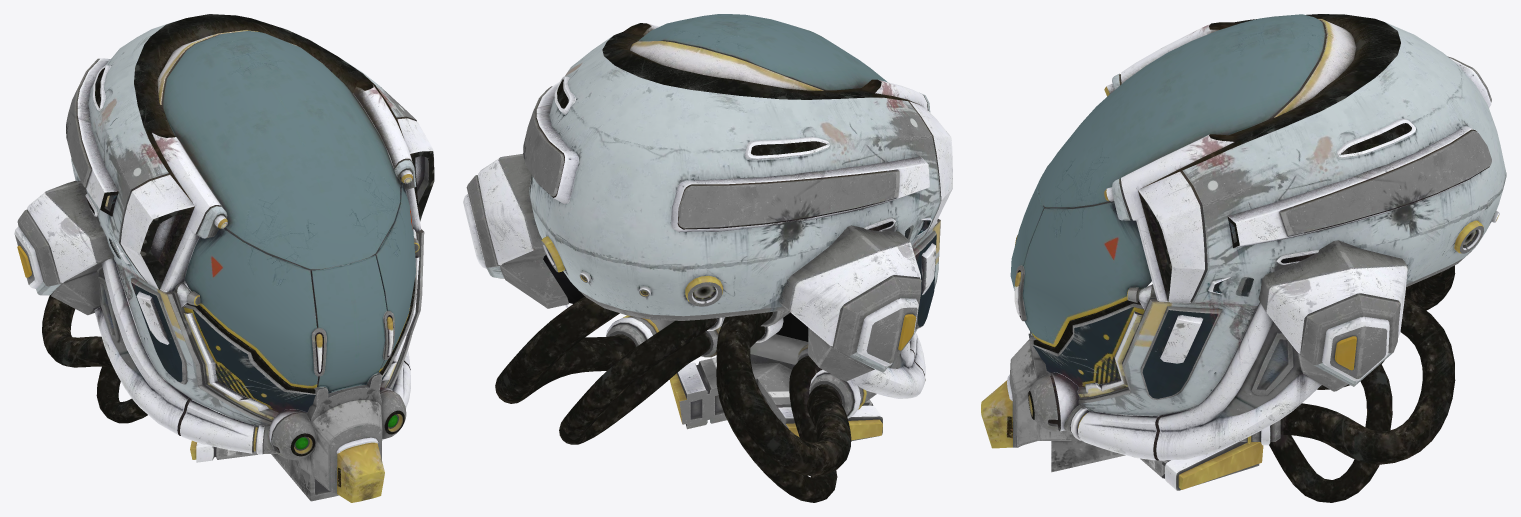
The model's file is DamagedHelmetCompressedByCLI.glb.
3 views of the same model, side by side, from view 1: azimuth 30°, elevation 25°; view 2: azimuth 150°, elevation 25°; view 3: azimuth 270°, elevation 25° (orthographic). The views are drawn at different scales.
Parts seen in each view (by area): view 1: node_damagedHelmet_-6514; view 2: node_damagedHelmet_-6514; view 3: node_damagedHelmet_-6514.
Boxes of the visible parts, <box> form: node_damagedHelmet_-6514: <box>14,14,434,502</box>; node_damagedHelmet_-6514: <box>463,14,952,502</box>; node_damagedHelmet_-6514: <box>981,14,1506,502</box>.
Bounding box in the file's own units: 1.89 × 1.8 × 2.
Materials: 1 (1 with a texture image).
